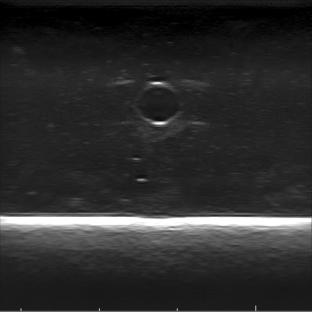vessel: (133, 79, 182, 129)
